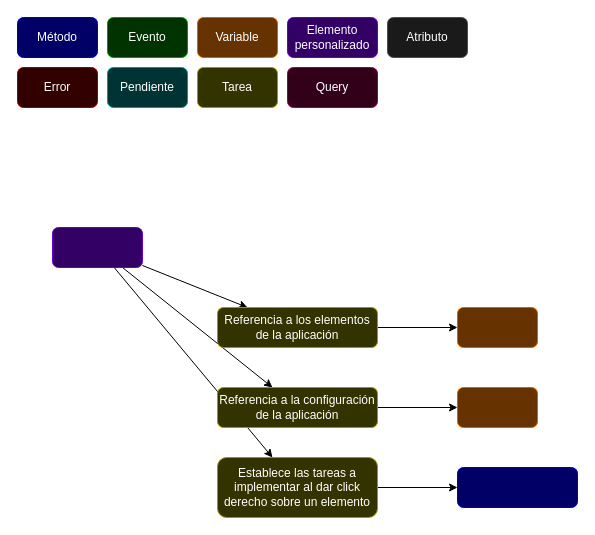
The diagram is 595 pixels wide and 535 high, and some of its shapes have lost their labels. The shapes that lost their labels are listed below. From the top down, each one's box as (x1, y1, x2, y2) in pixels, then its label:
(52, 226, 142, 268): dt-handler
(456, 306, 538, 348): elements
(456, 386, 538, 428): config
(456, 466, 578, 508): displayModalMenu
